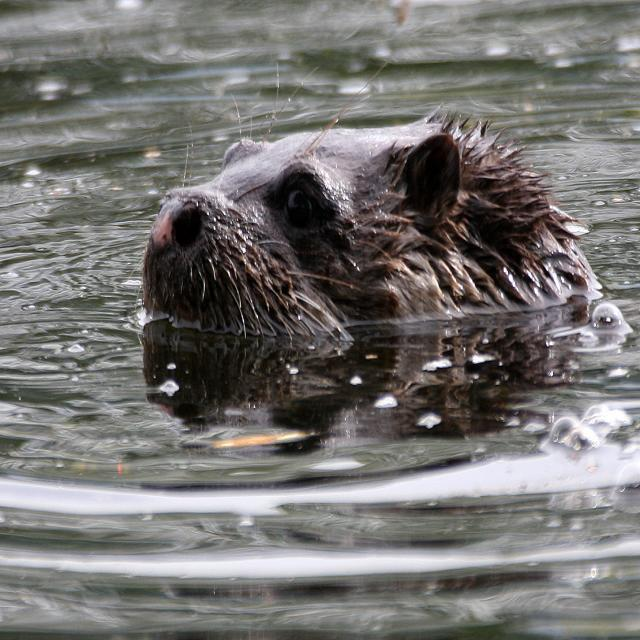otter: (140, 109, 594, 343)
